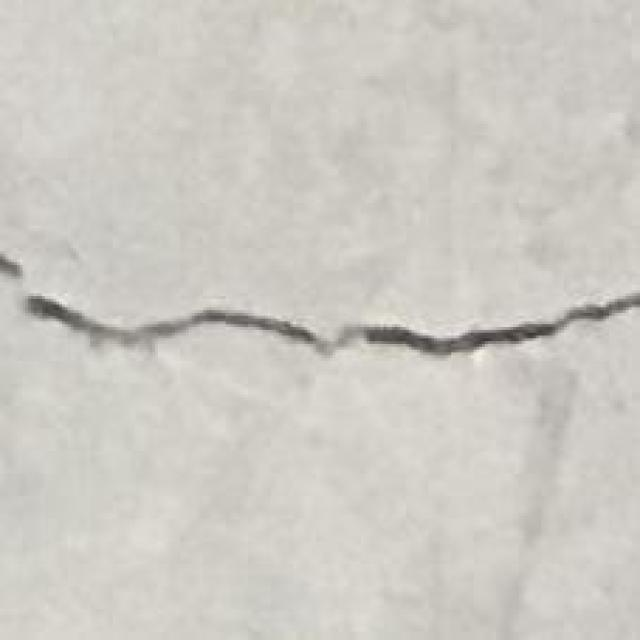Crack: (3, 245, 640, 372)
